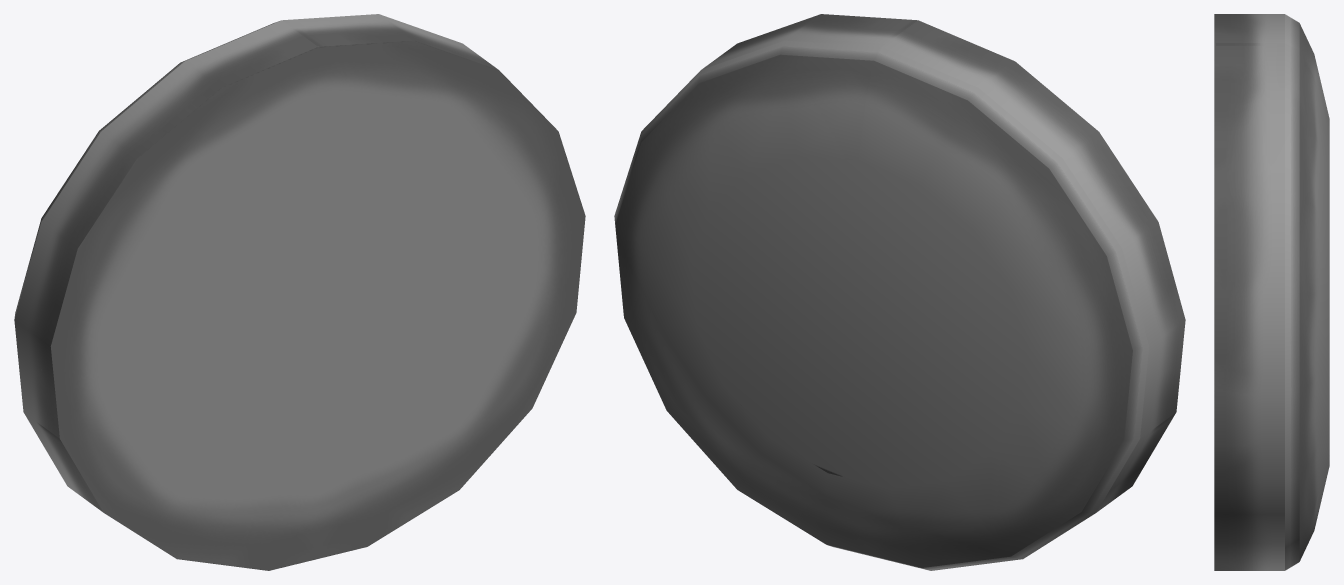
The model's file is Board.glb.
3 views of the same model, side by side, from view 1: azimuth 30°, elevation 25°; view 2: azimuth 150°, elevation 25°; view 3: azimuth 270°, elevation 25° (orthographic). The views are drawn at different scales.
Visible parts, largest first — view 1: Cylinder; view 2: Cylinder; view 3: Cylinder.
Part boxes in pixels (<box>): Cylinder: <box>14,14,585,570</box>; Cylinder: <box>614,14,1185,570</box>; Cylinder: <box>1214,14,1329,570</box>.
Size of the model in its own units: 1.23 by 1.13 by 0.2376.
1 material, 1 textured.
